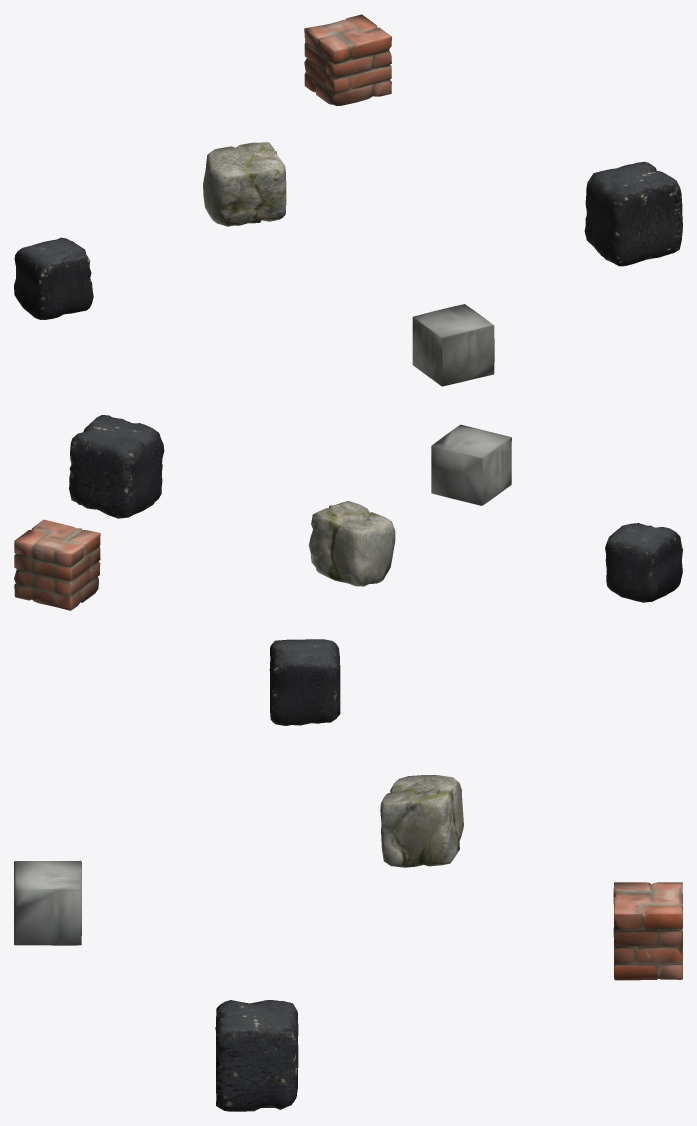
Rendered from Brick_Animation_1.gltf.
The picture shows the model from 3 angles, top to bottom: view 1: azimuth 30°, elevation 25°; view 2: azimuth 150°, elevation 25°; view 3: azimuth 270°, elevation 25°; orthographic projection. The views are drawn at different scales.
Visible parts, largest first — view 1: Block_5, Block_2, Block_3, Block_4, Block_1; view 2: Block_5, Block_2, Block_3, Block_4, Block_1; view 3: Block_5, Block_3, Block_2, Block_1, Block_4.
Boxes of the visible parts, <box> form: Block_5: <box>584,161,682,266</box>; Block_2: <box>304,14,391,105</box>; Block_3: <box>203,142,286,226</box>; Block_4: <box>412,304,494,386</box>; Block_1: <box>14,237,93,319</box>; Block_5: <box>69,415,164,518</box>; Block_2: <box>14,519,100,610</box>; Block_3: <box>308,501,395,586</box>; Block_4: <box>431,424,511,505</box>; Block_1: <box>605,523,682,602</box>; Block_5: <box>215,1000,298,1111</box>; Block_3: <box>380,775,463,867</box>; Block_2: <box>613,882,682,980</box>; Block_1: <box>269,639,340,725</box>; Block_4: <box>14,860,81,945</box>.
Bounding box in the file's own units: 3.94 × 0.7341 × 3.23.
Materials: 1 (1 with a texture image).
